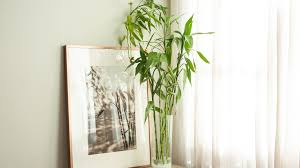bamboo: (118, 1, 211, 164)
